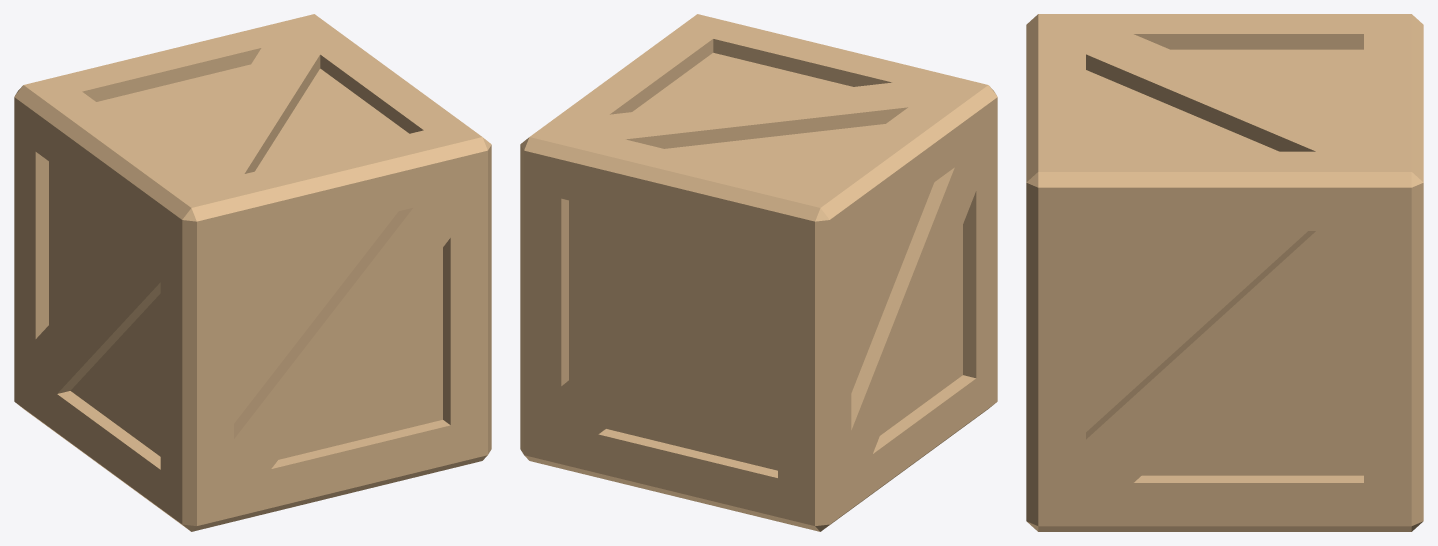
Rendered from BoxS.fbx.
3 views of the same model, side by side, from view 1: azimuth 30°, elevation 25°; view 2: azimuth 150°, elevation 25°; view 3: azimuth 270°, elevation 25° (orthographic). The views are drawn at different scales.
Parts seen in each view (by area): view 1: BoxS; view 2: BoxS; view 3: BoxS.
Part boxes in pixels (box(x1,y1,x2,y2)): BoxS: box(14, 14, 491, 531); BoxS: box(520, 14, 997, 531); BoxS: box(1026, 14, 1423, 531).
Size of the model in its own units: 1 by 1 by 1.
1 material, 1 textured.
